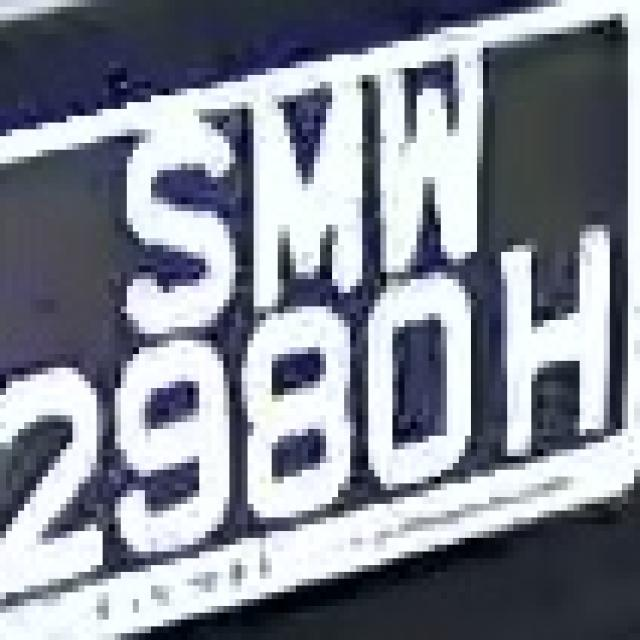0: (362, 279, 489, 518)
2: (0, 348, 115, 626)
8: (242, 320, 350, 551)
9: (90, 327, 236, 572)
H: (477, 238, 610, 470)
M: (230, 48, 356, 286)
S: (109, 89, 254, 334)
W: (362, 41, 507, 286)
